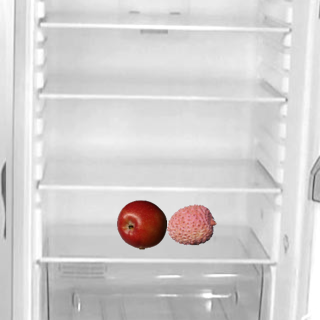Apple Braeburn: (116, 199, 166, 249)
Lychee: (166, 199, 216, 249)
